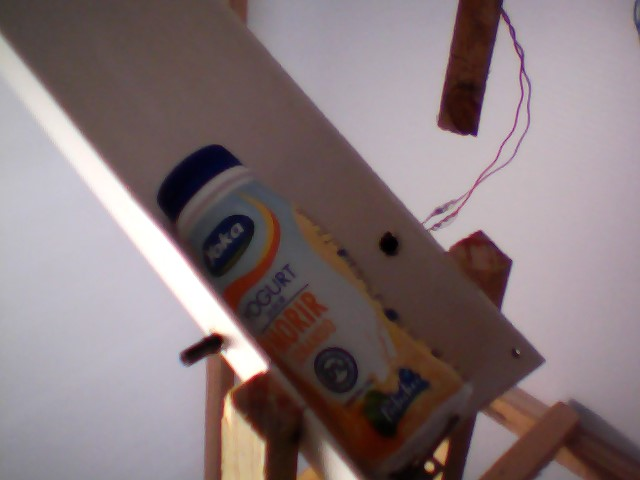plastico: (153, 141, 477, 480)
